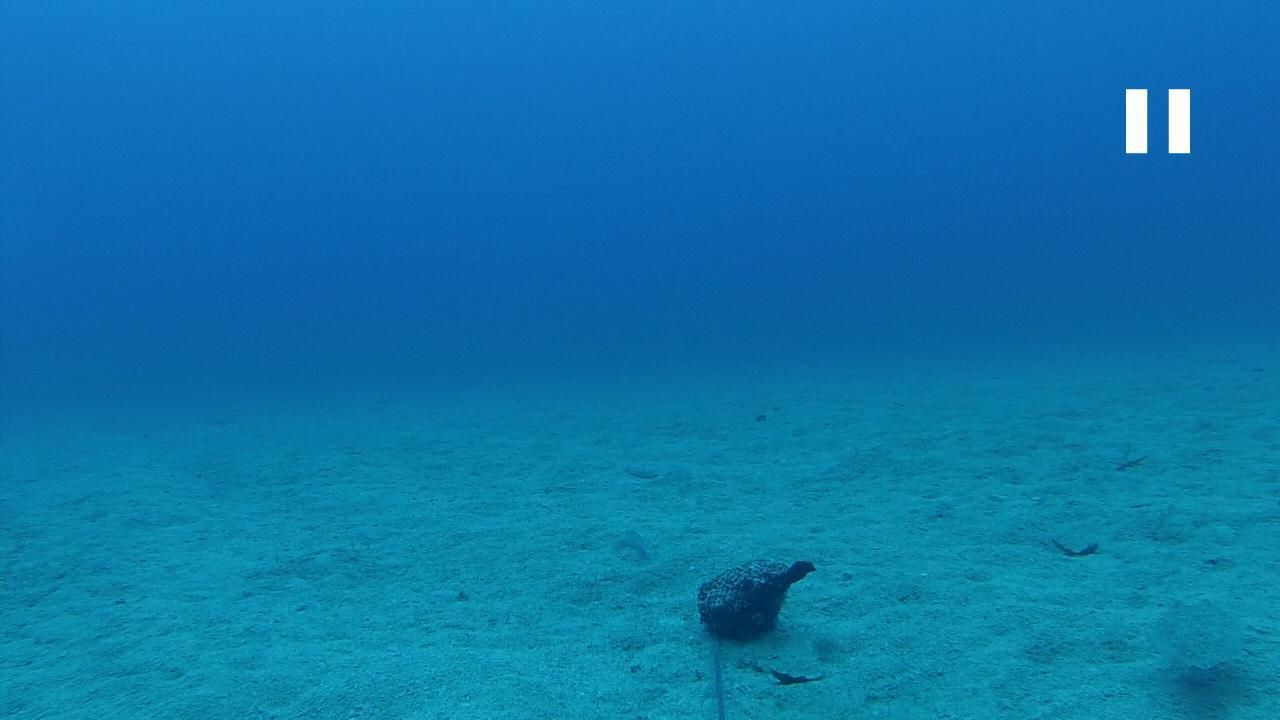bothus: (1150, 597, 1249, 673), (624, 464, 660, 483)
